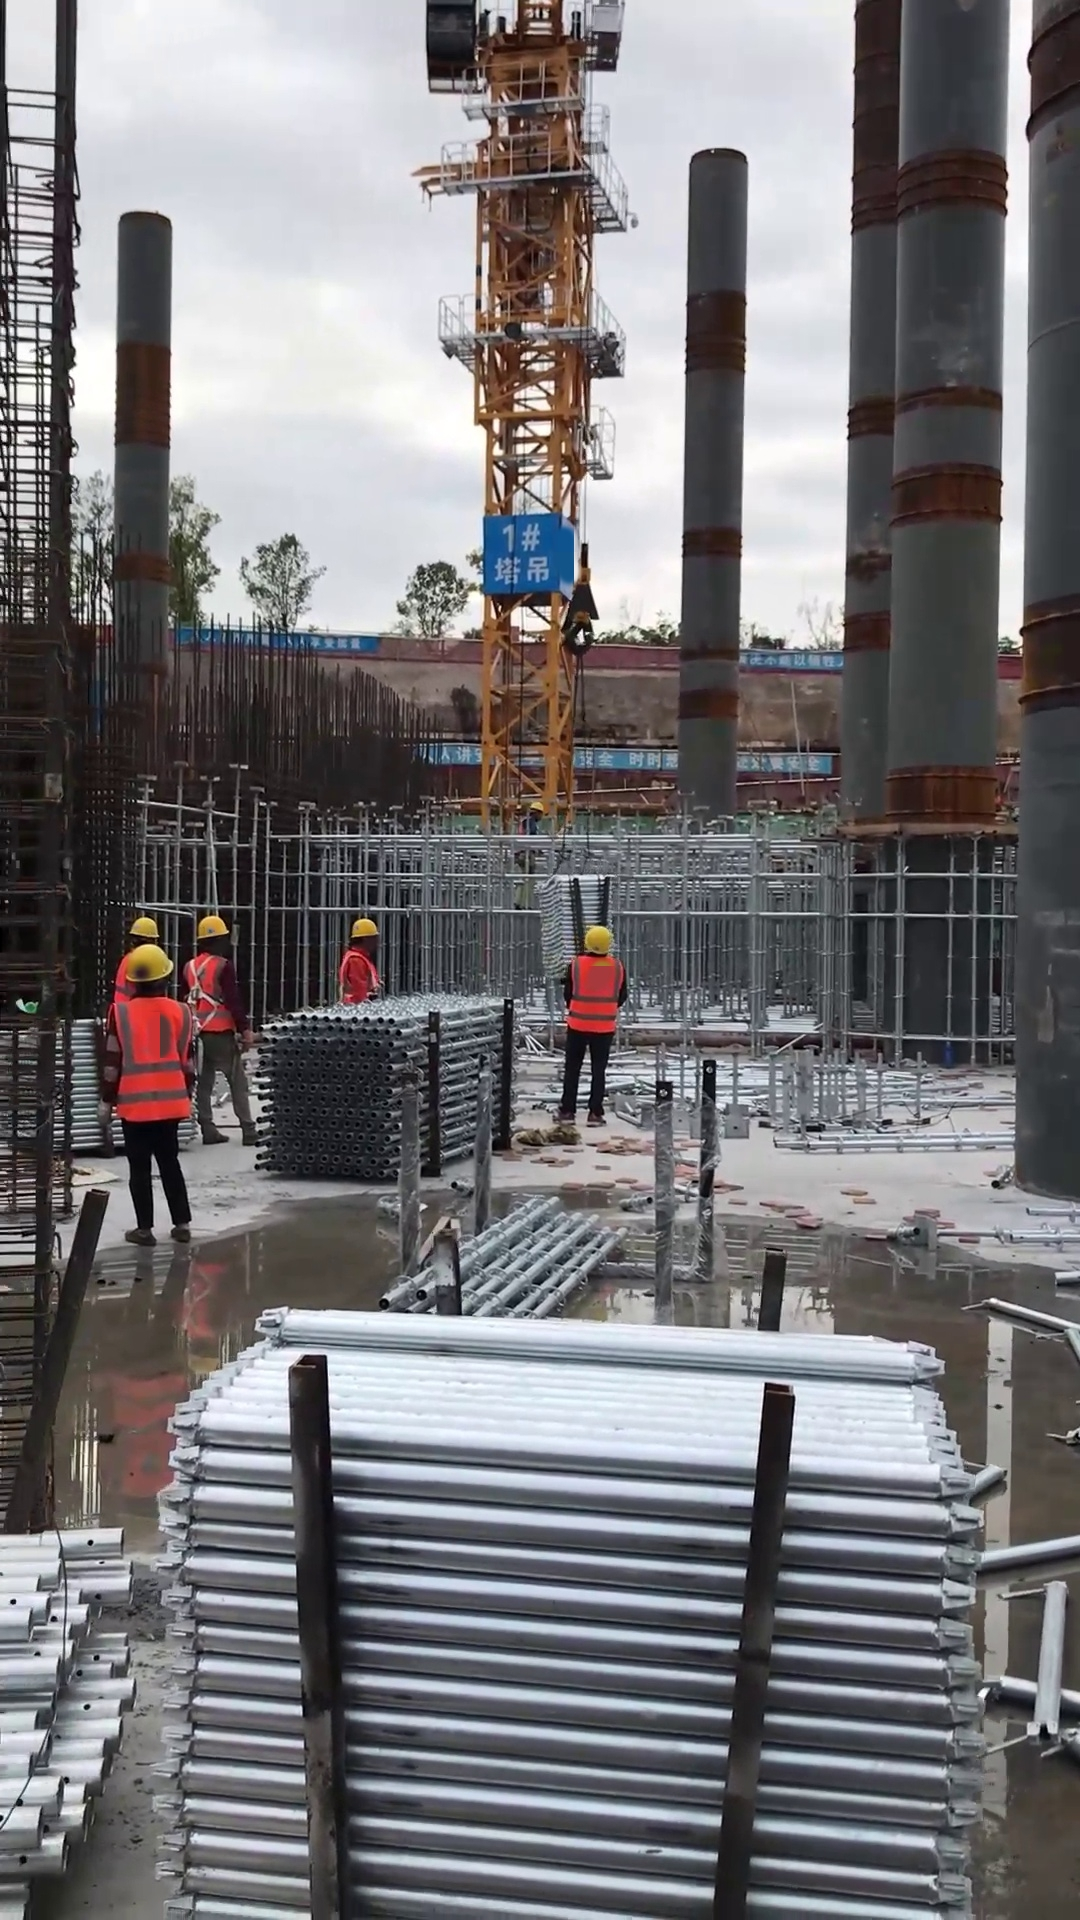helmet: (122, 943, 177, 983), (193, 913, 230, 943), (582, 924, 613, 956), (125, 915, 160, 941), (348, 917, 379, 939), (527, 798, 546, 815)
hook: (555, 540, 602, 658)
person: (96, 939, 199, 1248), (177, 912, 264, 1147), (550, 922, 630, 1128), (333, 914, 386, 1002), (510, 798, 546, 911)
scaffold: (153, 1306, 978, 1920), (1, 1518, 145, 1884), (251, 990, 527, 1180), (379, 1193, 627, 1320), (533, 873, 624, 979)
slogan: (487, 517, 554, 592), (191, 628, 380, 653), (573, 746, 680, 772), (734, 751, 838, 774), (736, 650, 846, 669), (418, 740, 486, 769)
vest: (108, 996, 195, 1124), (564, 954, 625, 1034), (181, 951, 236, 1035), (336, 948, 381, 1003), (107, 949, 135, 1001)
